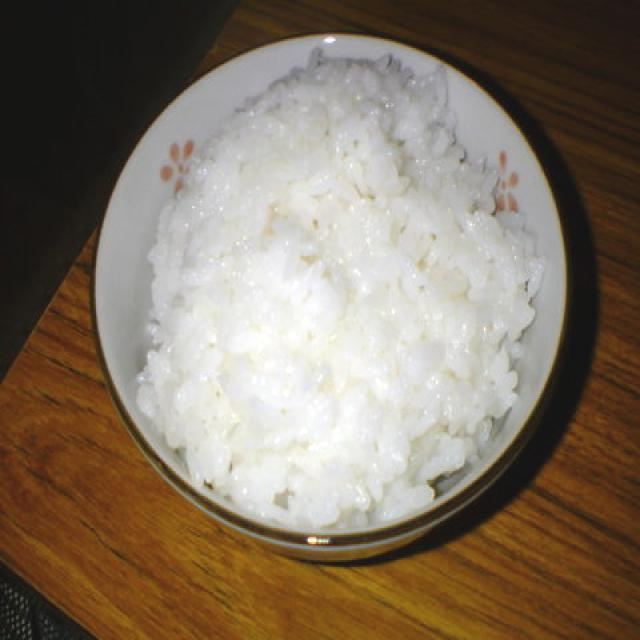Rice: (136, 45, 547, 535)
